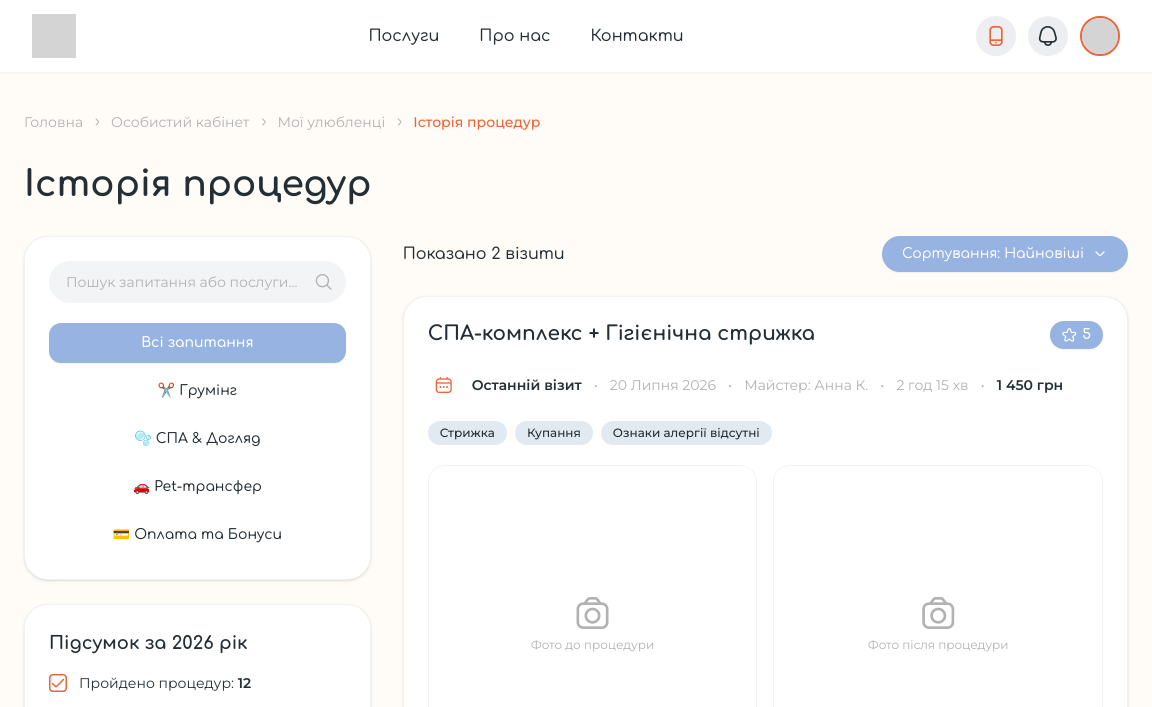
Test case: PetProcedureHistoryPage › filters procedures by search input
Step 1. Type "Експрес" into the field with placeholder "Пошук запитання або послуги..." → (197, 282), box [49, 261, 346, 303]
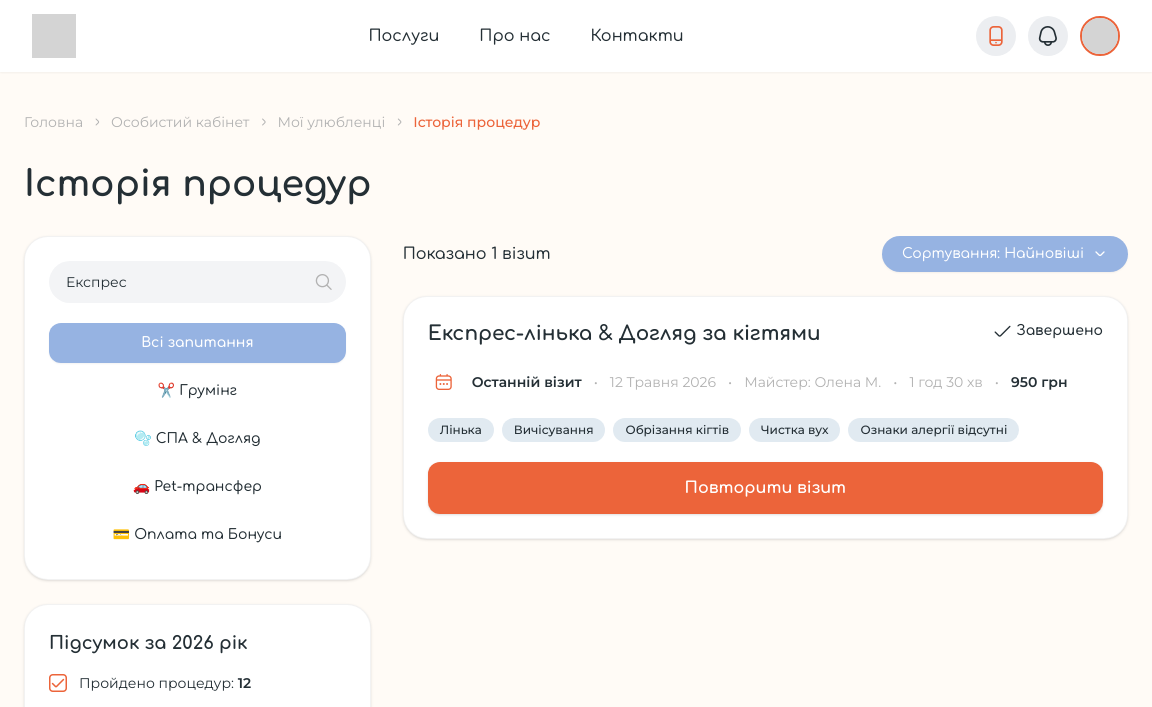
Expected: the heading "Експрес-лінька & Догляд за кігтями" is shown, [428, 321, 821, 346]
Expected: the heading "СПА-комплекс + Гігієнічна стрижка" is gone
Expected: the text "Показано 1 візит" is shown, [403, 242, 551, 266]
Step 2. Replace the text in the field with placeholder "Пошук запитання або послуги..." with "невідома процедура" → (197, 282), box [49, 261, 346, 303]
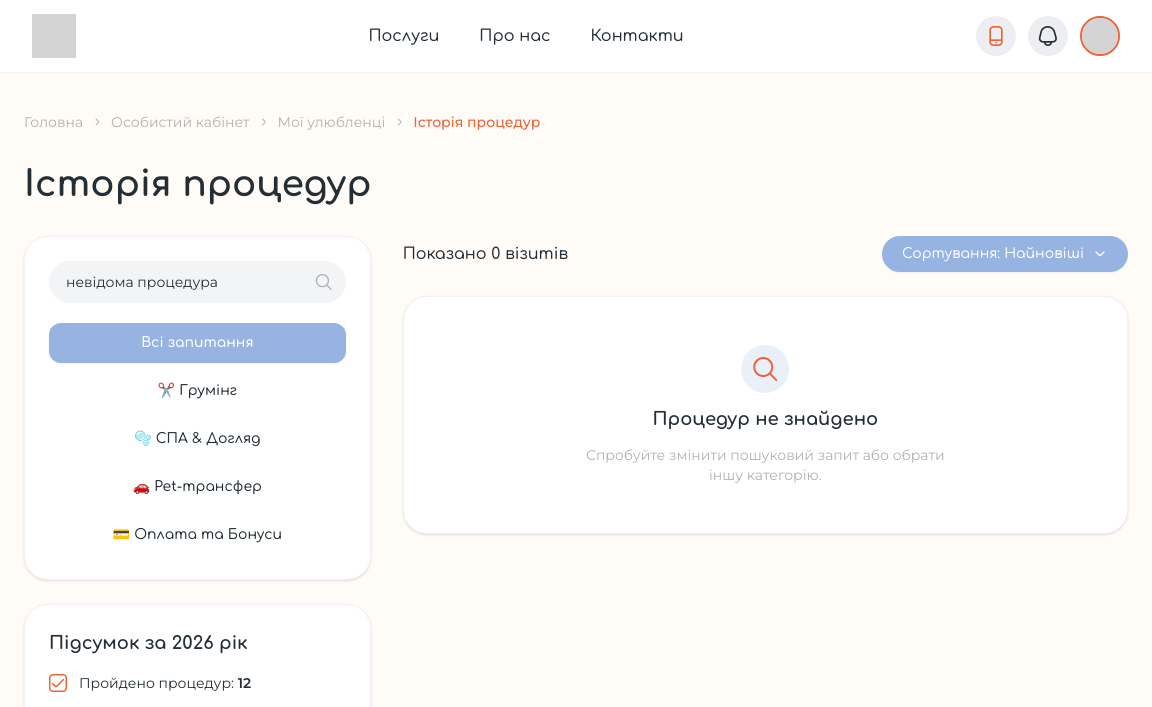
Expected: the element with test id "empty-procedure-search" is shown, [403, 296, 1128, 534]
Expected: the heading "Процедур не знайдено" is shown, [652, 405, 878, 433]
Expected: the text "Показано 0 візитів" is shown, [403, 242, 568, 266]
